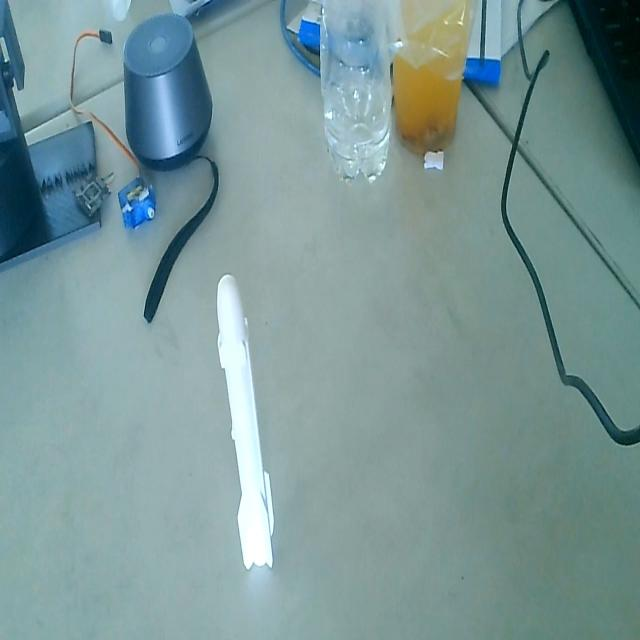Rocket: (212, 267, 276, 580)
